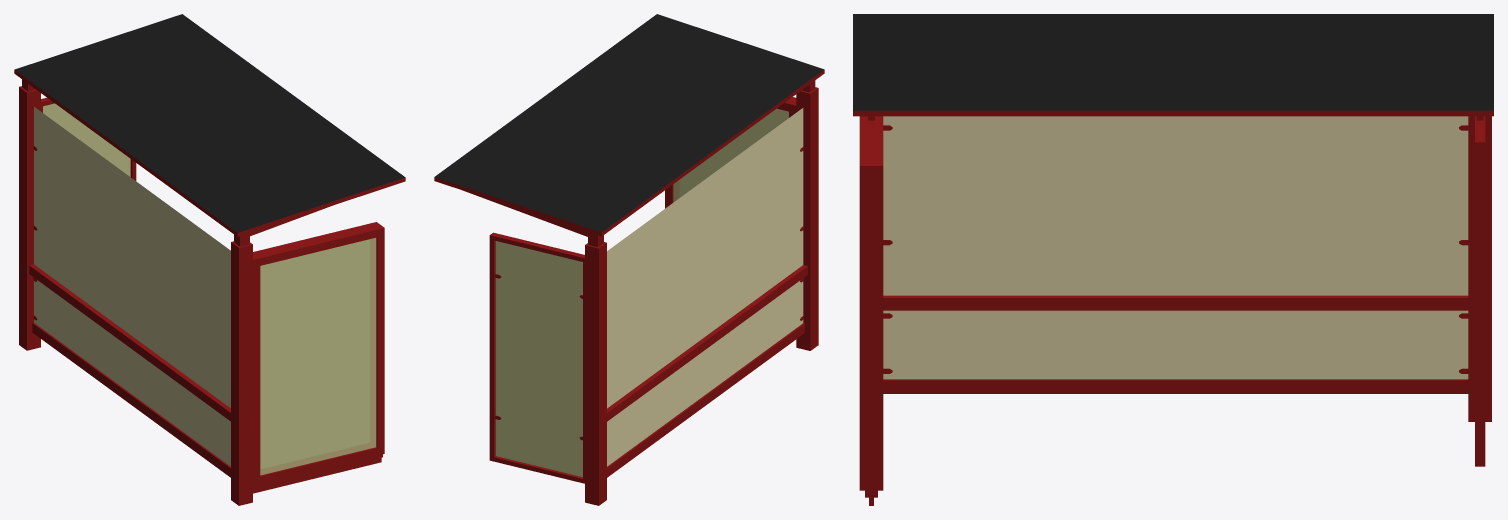
File: bus stop.FBX
3 renders of one model, left to right at view 1: azimuth 30°, elevation 25°; view 2: azimuth 150°, elevation 25°; view 3: azimuth 270°, elevation 25°, orthographic. The views are drawn at different scales.
Parts seen in each view (by area): view 1: bus stop; view 2: bus stop; view 3: bus stop.
Boxes of the visible parts, <box> form: bus stop: <box>14,14,405,505</box>; bus stop: <box>434,14,824,505</box>; bus stop: <box>853,14,1493,505</box>.
Size of the model in its own units: 137 by 227 by 316.
